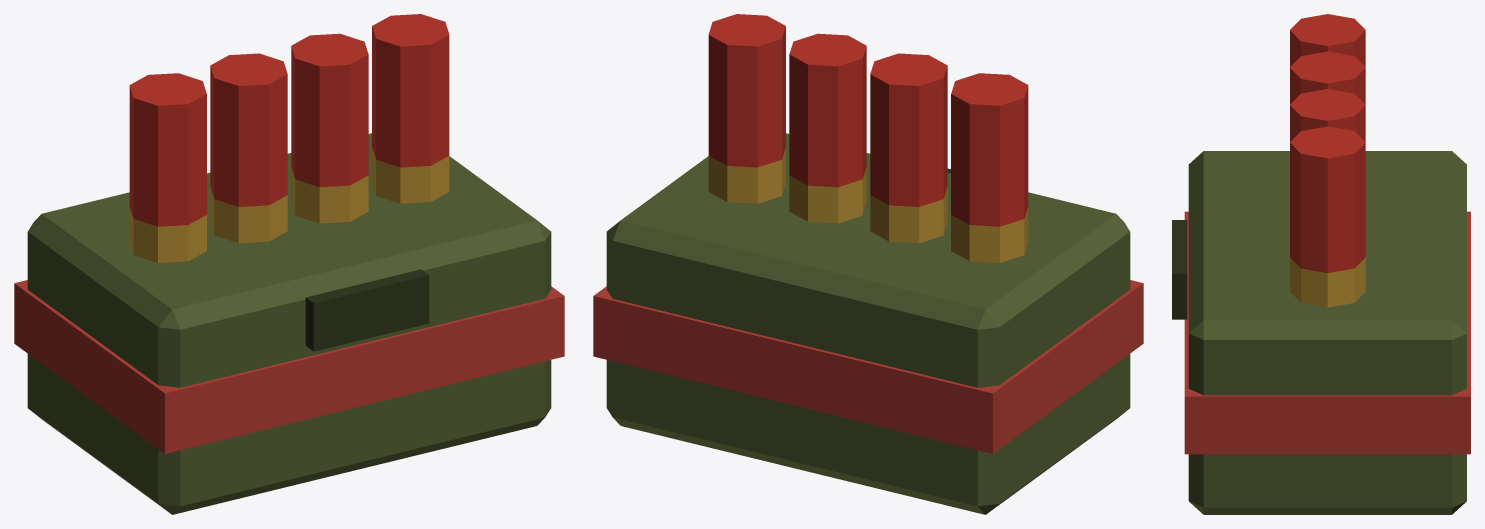
File: ammo_shotgun.glb
3 views of the same model, side by side, from view 1: azimuth 30°, elevation 25°; view 2: azimuth 150°, elevation 25°; view 3: azimuth 270°, elevation 25° (orthographic). The views are drawn at different scales.
Parts seen in each view (by area): view 1: AmmoShotgun; view 2: AmmoShotgun; view 3: AmmoShotgun.
Part boxes in pixels (x1=…): AmmoShotgun: x1=14, y1=14, x2=564, y2=514; AmmoShotgun: x1=593, y1=14, x2=1143, y2=514; AmmoShotgun: x1=1172, y1=14, x2=1470, y2=514.
Size of the model in its own units: 0.346 by 0.3 by 0.236.
